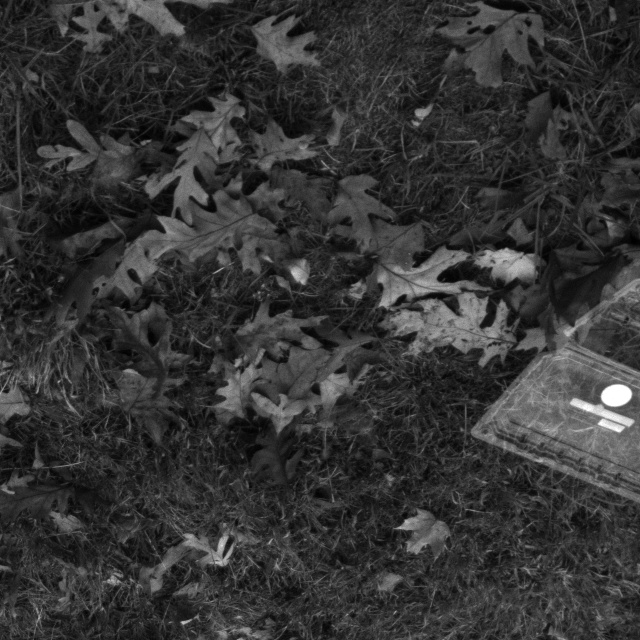container: (465, 243, 640, 514)
